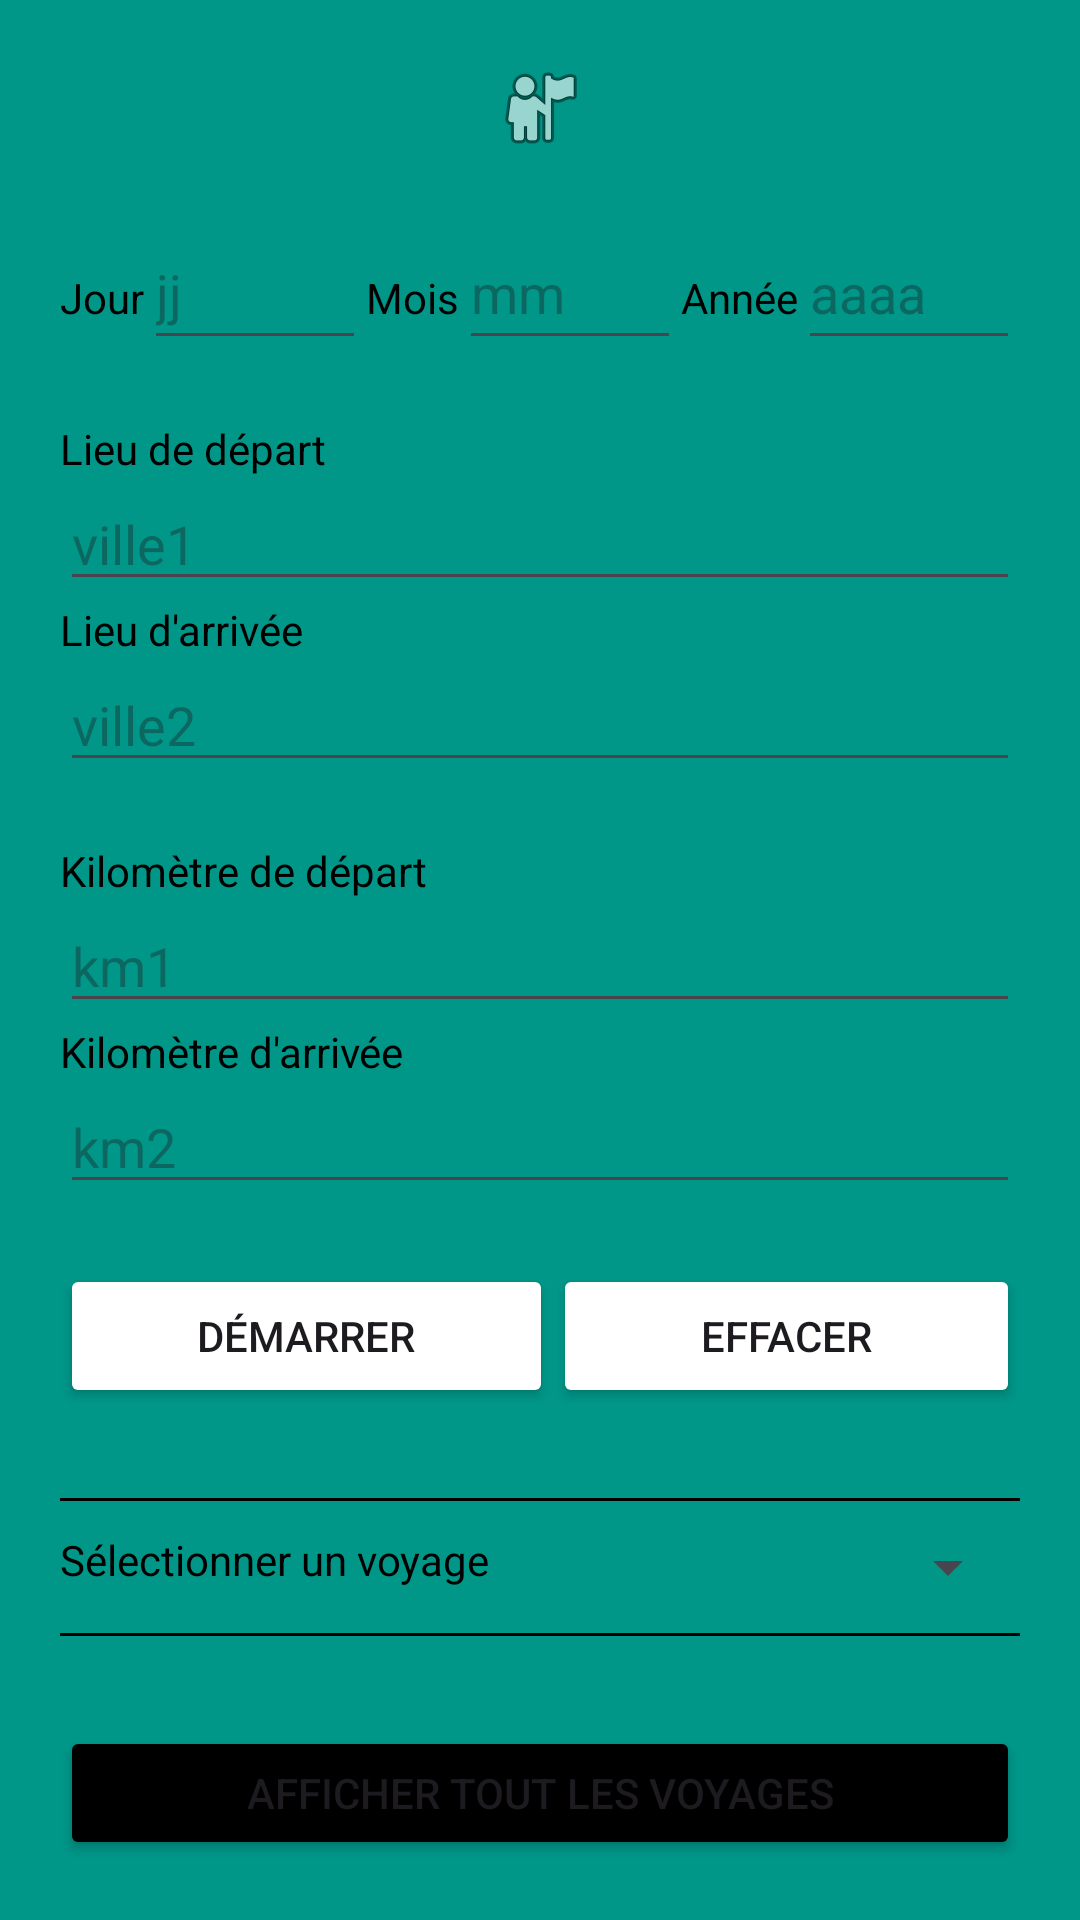

Point at icon controls on the screen. Image size 1080 × 1920, points as (x,y).
myplaces: (541,108)
